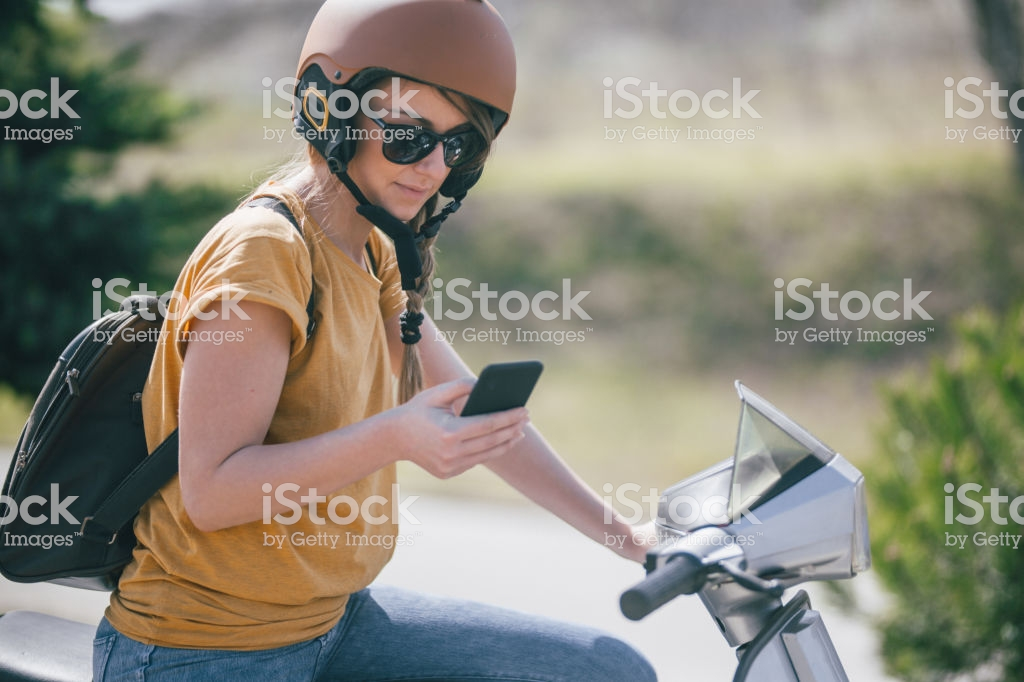helmet: (297, 3, 535, 151)
